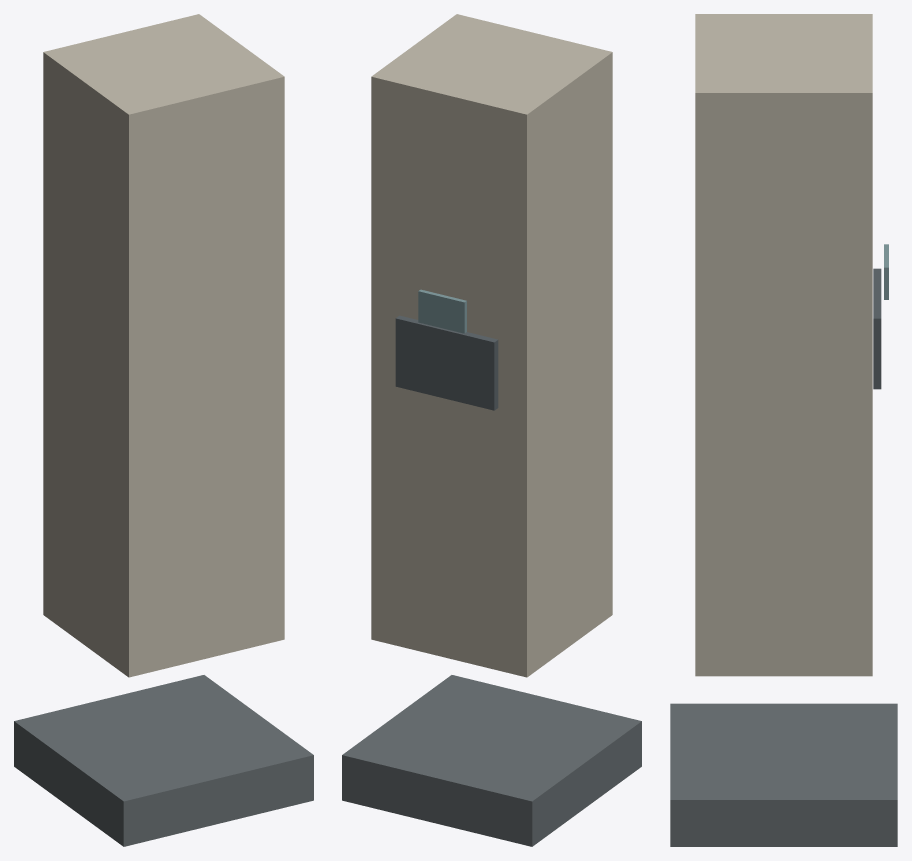
Rendered from iz3_environment_cypress_01.glb.
3 renders of one model, left to right at view 1: azimuth 30°, elevation 25°; view 2: azimuth 150°, elevation 25°; view 3: azimuth 270°, elevation 25°, orthographic. The views are drawn at different scales.
Parts seen in each view (by area): view 1: cabinet, base; view 2: cabinet, base, panel, display; view 3: cabinet, base, panel.
Boxes of the visible parts, bbox=[...] form: cabinet: bbox=[43, 14, 284, 677]; base: bbox=[14, 675, 313, 846]; cabinet: bbox=[371, 14, 612, 677]; base: bbox=[342, 675, 641, 846]; panel: bbox=[395, 315, 498, 410]; display: bbox=[418, 289, 466, 333]; cabinet: bbox=[695, 14, 872, 676]; base: bbox=[670, 703, 897, 846]; panel: bbox=[873, 268, 881, 389].
Bounding box in the file's own units: 1.4 × 5.06 × 1.4.
